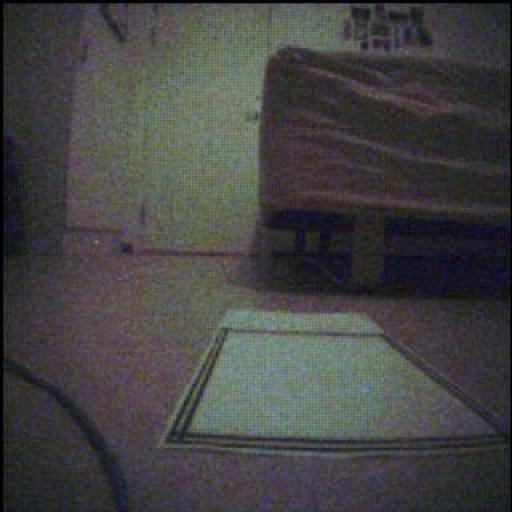pad: (161, 312, 510, 456)
